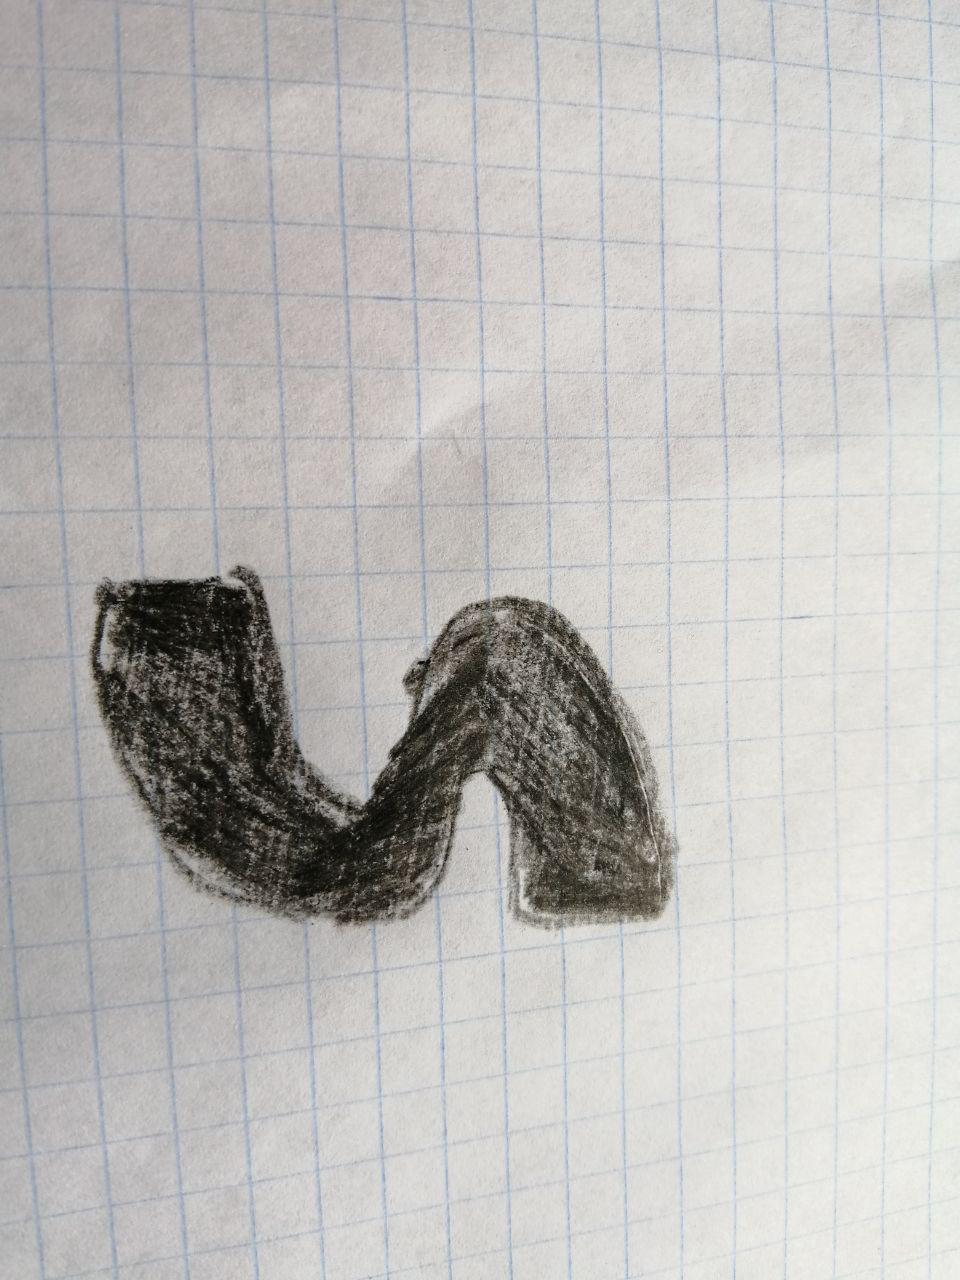s: (86, 566, 696, 949)
